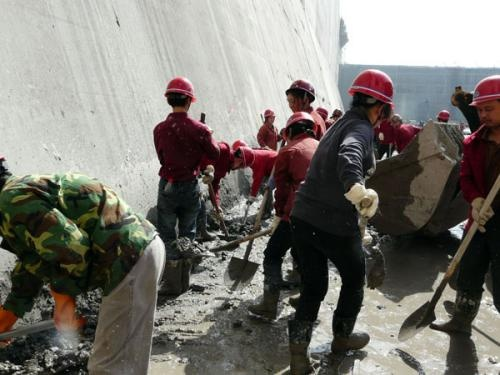red: (348, 67, 396, 126), (470, 73, 500, 129), (162, 74, 198, 116), (279, 109, 319, 143), (284, 77, 317, 114), (229, 144, 257, 172), (262, 108, 276, 124)
